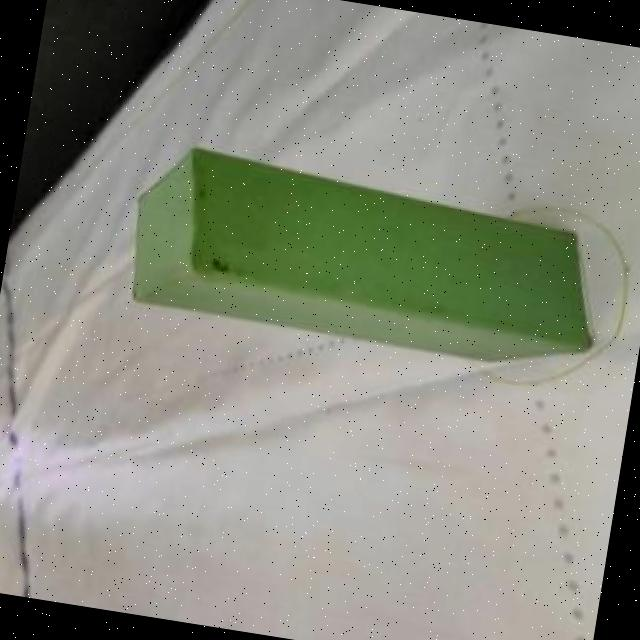greenbox: (117, 138, 615, 381)
